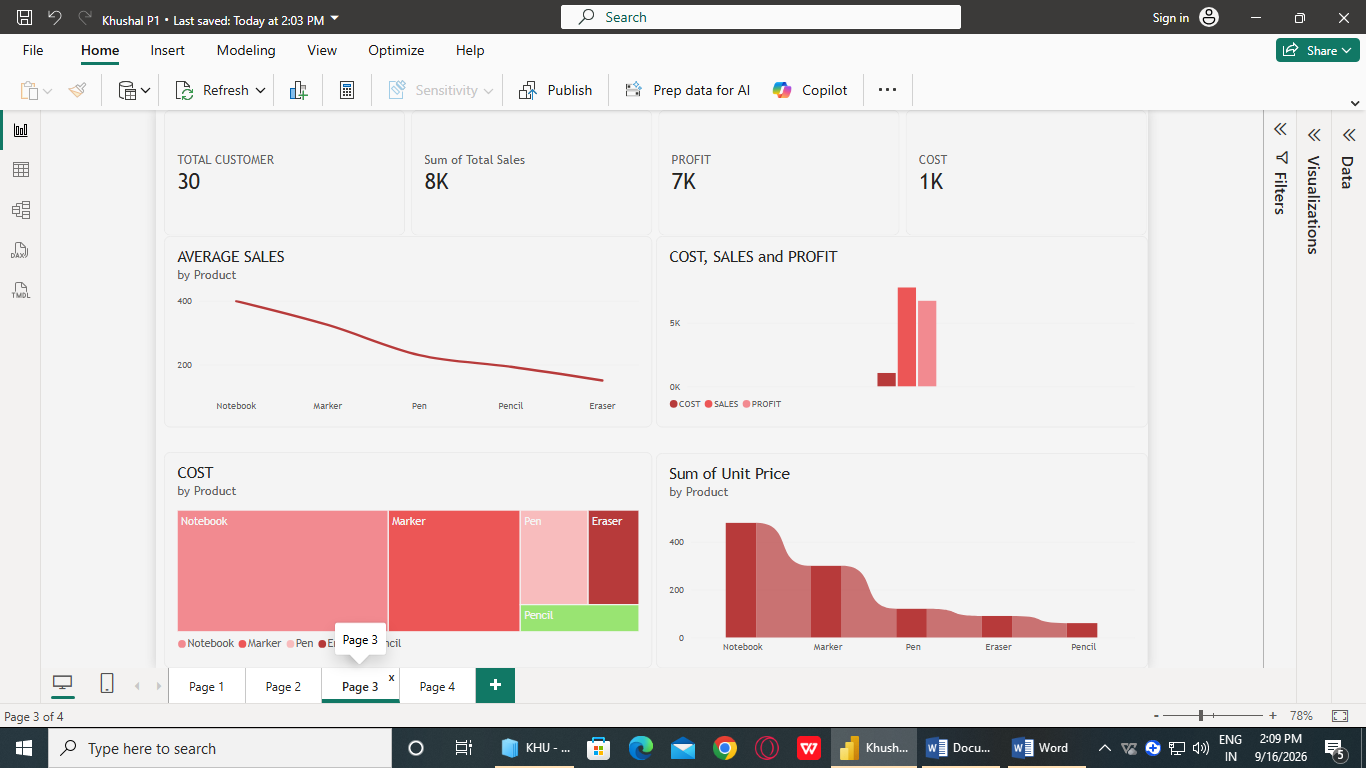

The dashboard page shown, as its layout file describes it:
{"tool":"powerbi","page":{"name":"Page 3","canvas":[1280,720],"ordinal":2},"visuals":[{"type":"cardVisual","fields":{"Data":["SALES.TOTAL CUSTOMER","Sum(SALES.Total Sales)","SALES.PROFIT","SALES.COST"]},"box":[10.1,0,1269.9,162.9],"z":0},{"type":"lineChart","fields":{"Y":["SALES.AVERAGE SALES"],"Category":["SALES.Product"]},"box":[10.1,162.9,629.9,246.9],"z":1000},{"type":"lineClusteredColumnComboChart","fields":{"Y":["SALES.COST","SALES.SALES","SALES.PROFIT"]},"box":[645,162.9,635,246.9],"z":2000},{"type":"treemap","fields":{"Group":["SALES.Product"],"Values":["SALES.COST"]},"box":[10.1,441.8,629.9,278.8],"z":3000},{"type":"ribbonChart","fields":{"Category":["SALES.Product"],"Y":["Sum(SALES.Unit Price)"]},"box":[645,442,635,278],"z":4000}]}

Visuals, with their boxes on the page's 1280x720 design canvas (x1, y1, x2, y2). These are canvas units, not pixel positions in the 1366x768 screenshot, which may show the page scaled, cropped or inside an application window:
cardVisual - SALES.TOTAL CUSTOMER x Sum(SALES.Total Sales): Rect(10, 0, 1280, 163)
lineChart - SALES.AVERAGE SALES x SALES.Product: Rect(10, 163, 640, 410)
lineClusteredColumnComboChart - SALES.COST x SALES.SALES: Rect(645, 163, 1280, 410)
treemap - SALES.Product x SALES.COST: Rect(10, 442, 640, 721)
ribbonChart - SALES.Product x Sum(SALES.Unit Price): Rect(645, 442, 1280, 720)
